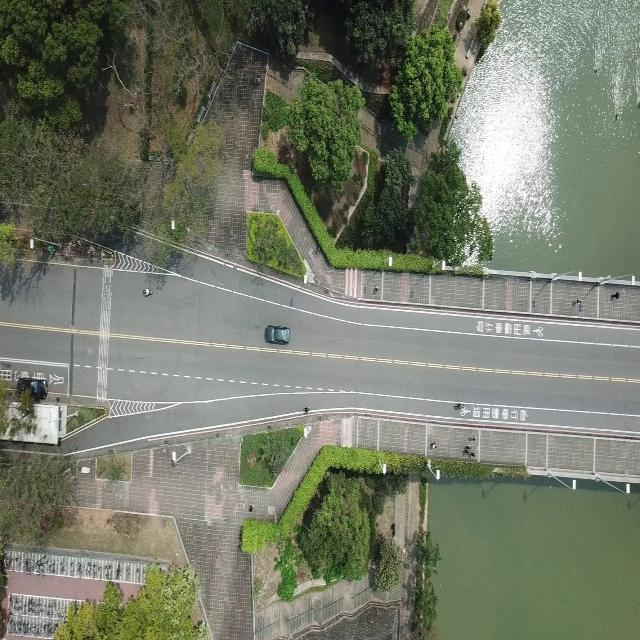bike: (140, 286, 152, 298)
car: (16, 375, 48, 400), (264, 323, 290, 343)
